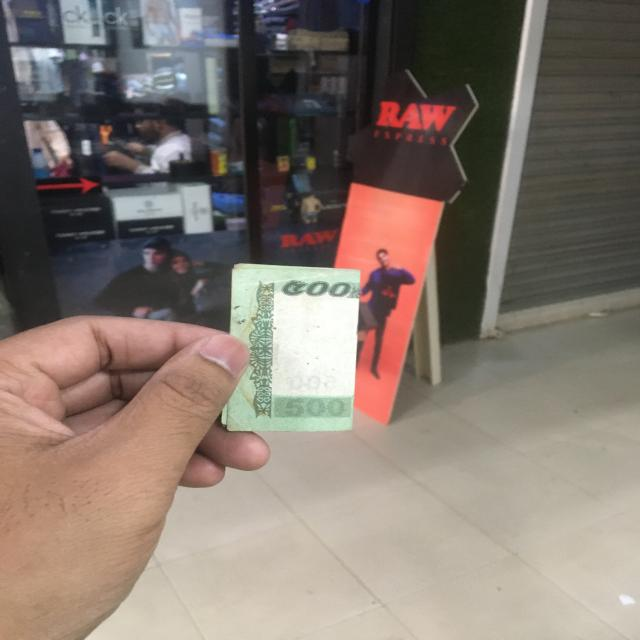Taka: (230, 263, 356, 431)
